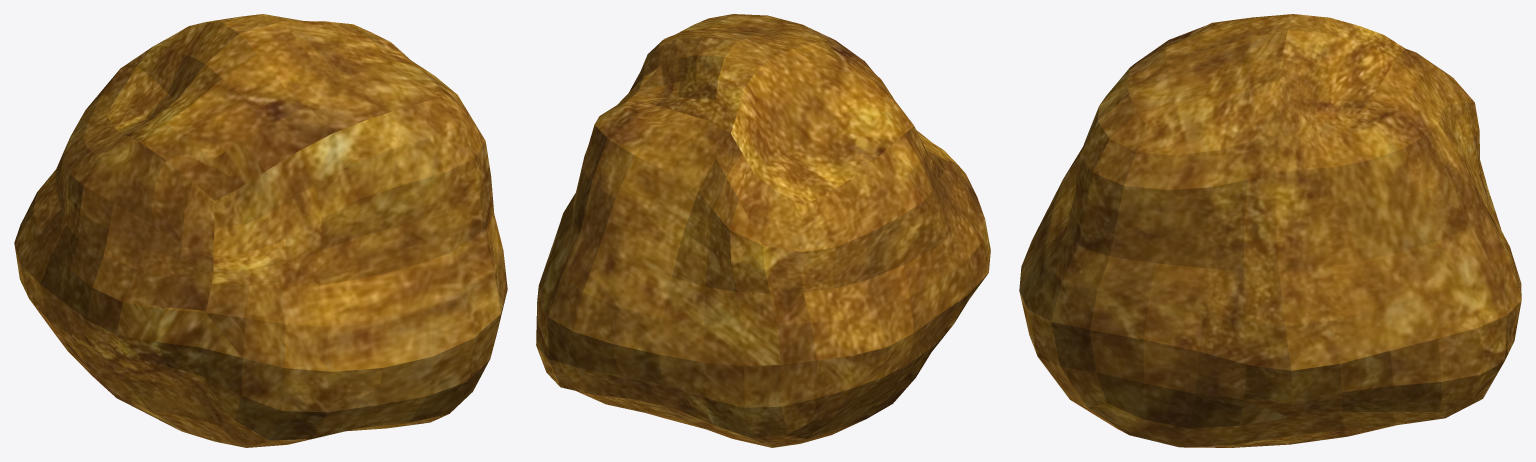
3 renders of one model, left to right at view 1: azimuth 30°, elevation 25°; view 2: azimuth 150°, elevation 25°; view 3: azimuth 270°, elevation 25°, orthographic. The views are drawn at different scales.
Visible parts, largest first — view 1: Cube; view 2: Cube; view 3: Cube.
Boxes of the visible parts, x1,y1,x2,y2 form: Cube: [14, 14, 507, 447]; Cube: [536, 14, 990, 447]; Cube: [1019, 14, 1521, 447].
Bounding box in the file's own units: 61.61 × 56.82 × 65.76.
Materials: 1 (1 with a texture image).
